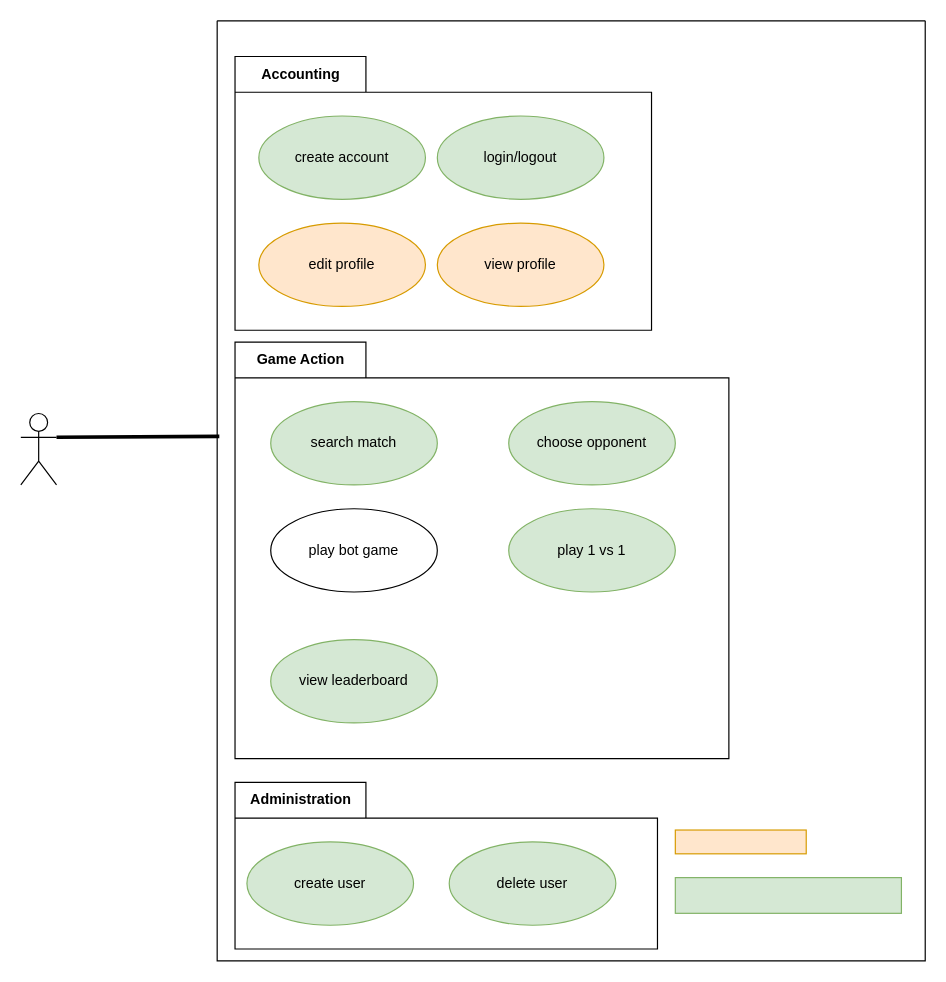
This 946x982 diagram has some shape labels left out. Here are the shapes that lost their labels. From the top down, the centre of each, then its label:
At point 38,448: "User".
At point 740,841: "Optional features".
At point 787,894: "Use cases we want to implement until december 2021".
